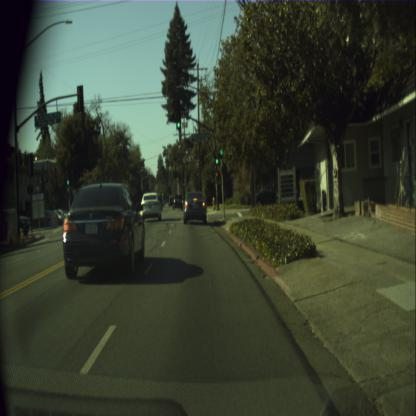Green: (214, 146, 220, 164), (219, 138, 223, 156), (176, 111, 180, 128), (66, 170, 68, 186)
